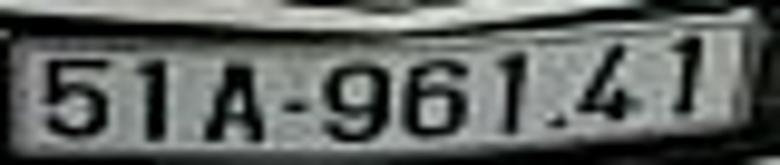-: (276, 98, 309, 112)
.: (551, 118, 564, 129)
1: (672, 36, 701, 115), (142, 59, 168, 141), (503, 50, 526, 135)
4: (576, 44, 631, 121)
5: (46, 59, 108, 138)
6: (405, 59, 467, 137)
9: (326, 62, 389, 144)
A: (204, 59, 265, 146)
